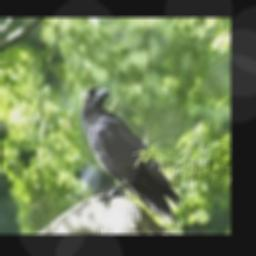Crow: (81, 84, 182, 231)
